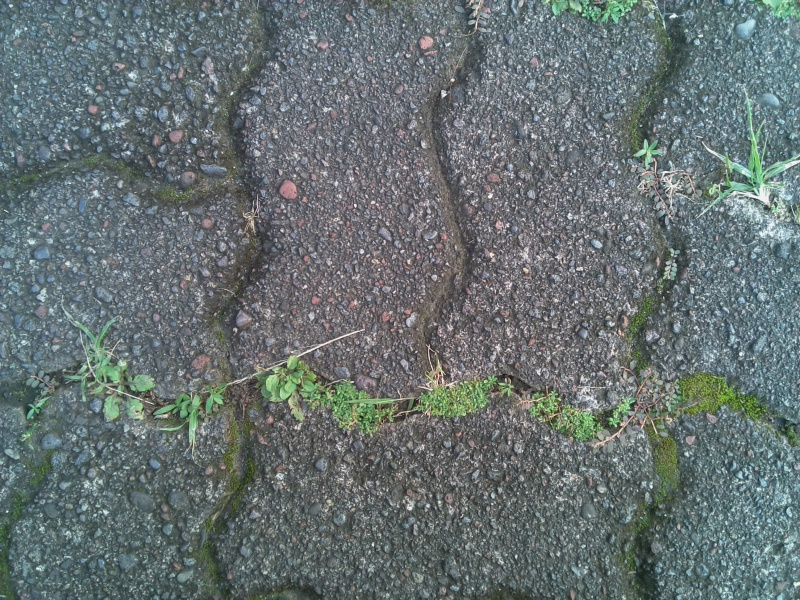Weed: (66, 315, 154, 426), (709, 127, 789, 215), (311, 375, 395, 444), (524, 384, 598, 444), (163, 384, 227, 446), (414, 380, 500, 422), (265, 351, 319, 414), (236, 196, 265, 239), (660, 244, 688, 288), (630, 137, 665, 165), (23, 393, 50, 424), (607, 399, 636, 427), (496, 372, 517, 406)
